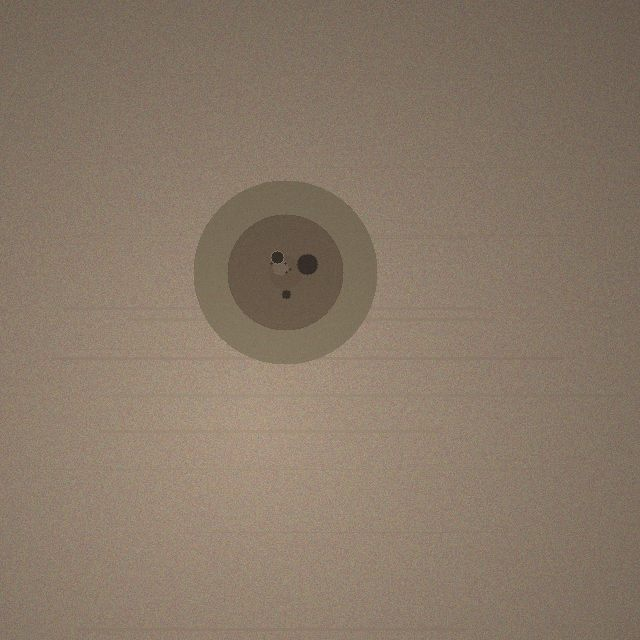shrinkage: (193, 180, 377, 364)
